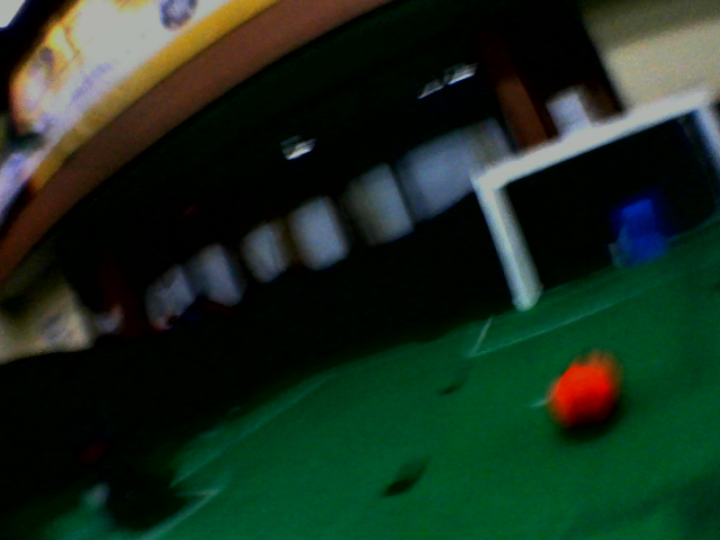bola: (543, 353, 628, 431)
